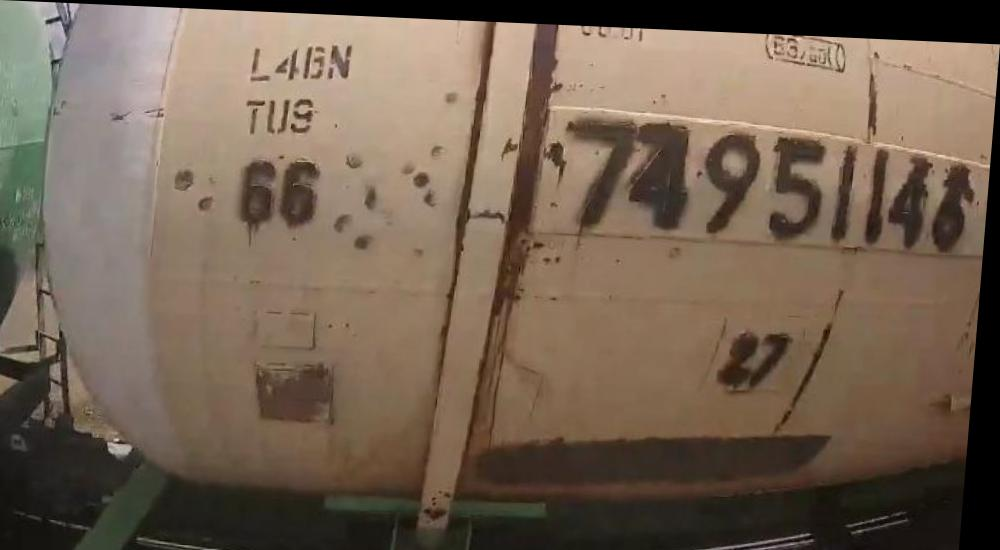Wagon-number: (560, 102, 981, 248)
